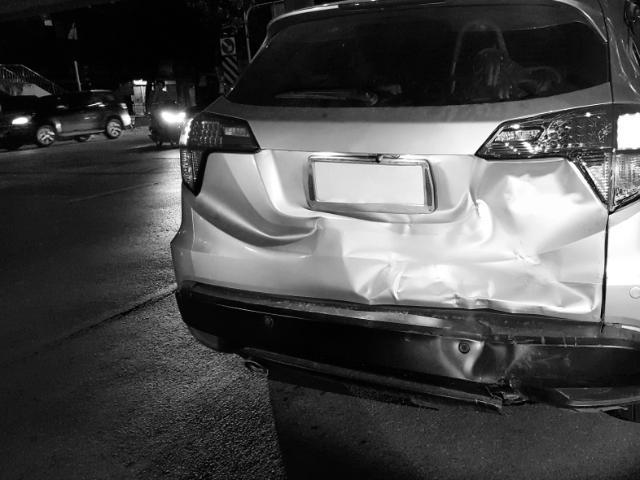Dickey: (237, 148, 616, 303)
